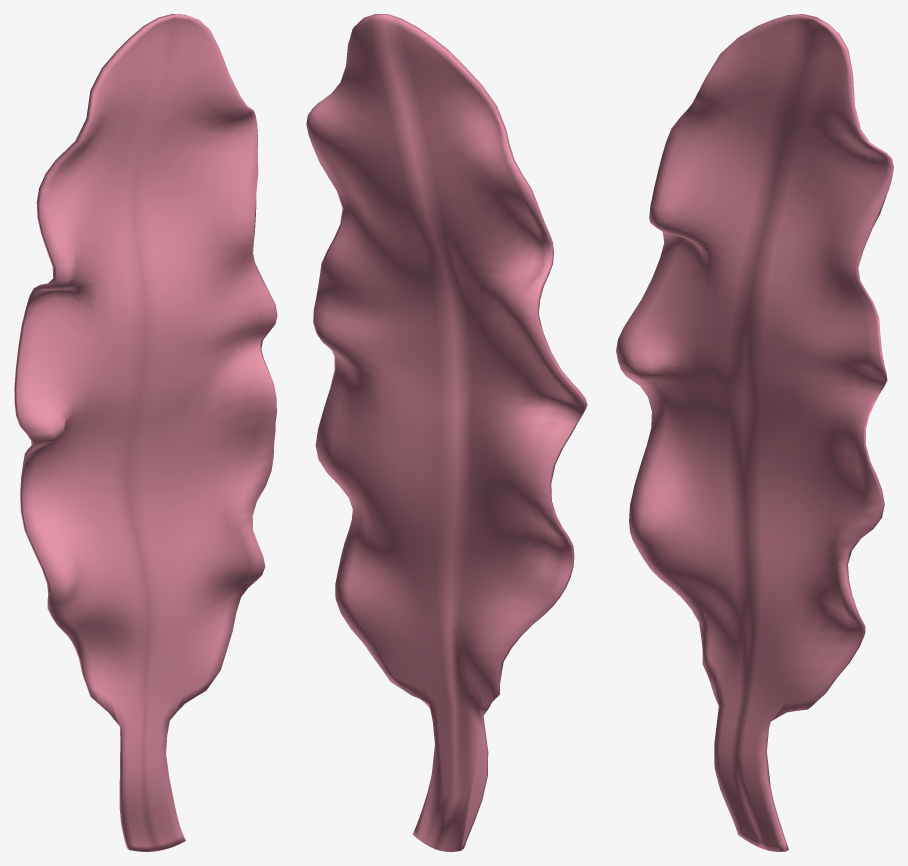
The model's file is seaweed1-2.fbx.
The picture shows the model from 3 angles, left to right: view 1: azimuth 30°, elevation 25°; view 2: azimuth 150°, elevation 25°; view 3: azimuth 330°, elevation 25°; orthographic projection. The views are drawn at different scales.
Parts seen in each view (by area): view 1: seaweed1; view 2: seaweed1; view 3: seaweed1.
Part boxes in pixels (x1,y1,x2,y2): seaweed1: [14, 14, 277, 851]; seaweed1: [306, 14, 587, 851]; seaweed1: [616, 14, 893, 851].
Size of the model in its own units: 839 by 2507 by 203.
